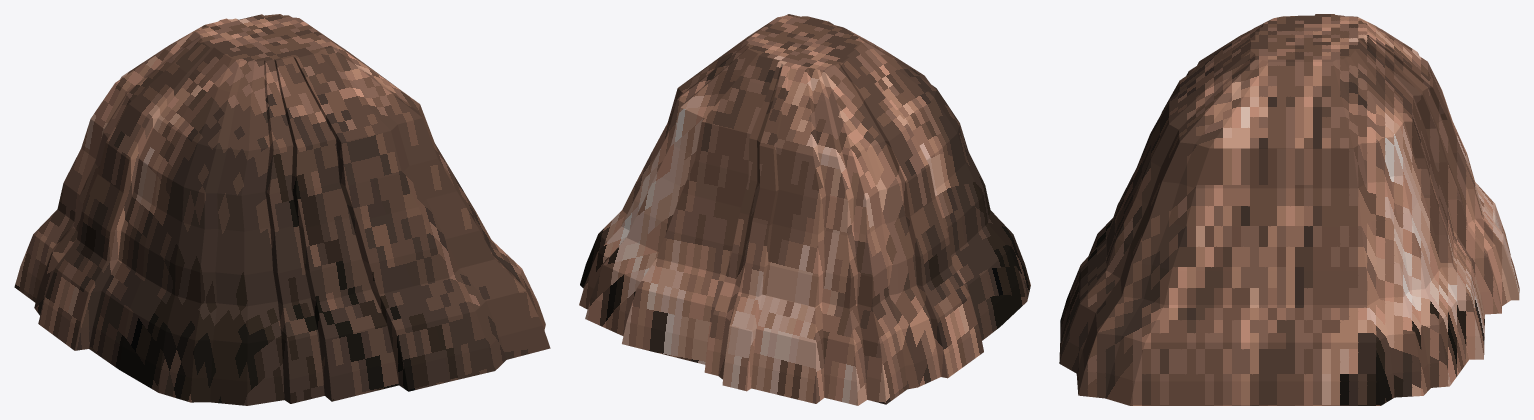
The model's file is boulder_343x1.gltf.
3 renders of one model, left to right at view 1: azimuth 30°, elevation 25°; view 2: azimuth 150°, elevation 25°; view 3: azimuth 270°, elevation 25°, orthographic. The views are drawn at different scales.
Parts seen in each view (by area): view 1: Boulder_343x1; view 2: Boulder_343x1; view 3: Boulder_343x1.
Boxes of the visible parts, bbox=[...] form: Boulder_343x1: bbox=[14, 14, 550, 405]; Boulder_343x1: bbox=[579, 14, 1030, 405]; Boulder_343x1: bbox=[1059, 14, 1519, 405].
Bounding box in the file's own units: 4.41 × 2.98 × 4.57.
1 material, 1 textured.
